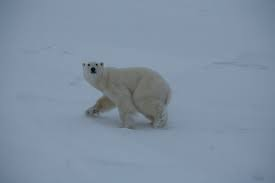PolarBear: (77, 53, 174, 132)
